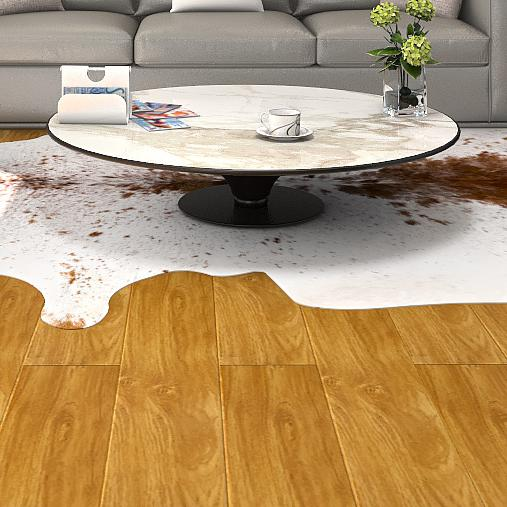table: (36, 80, 473, 234)
